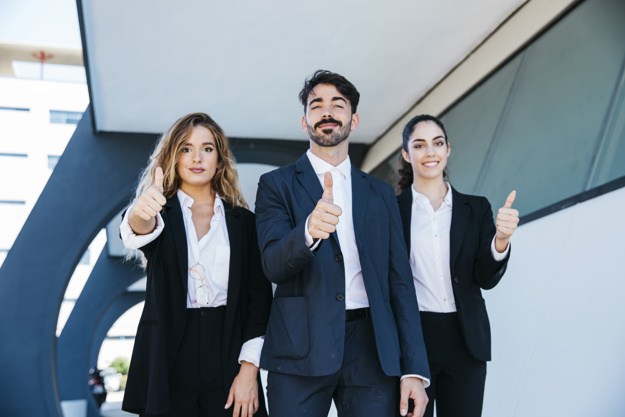thumbsup: (308, 171, 342, 239), (133, 166, 166, 220), (496, 190, 519, 236)
